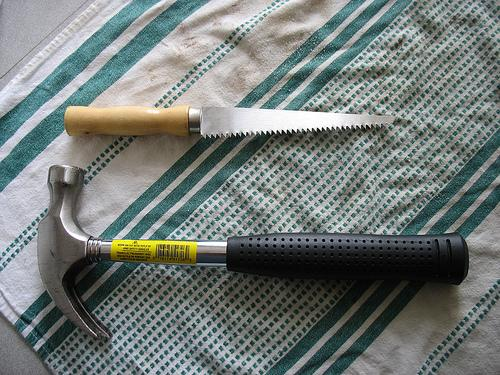hammer: (33, 159, 471, 346)
